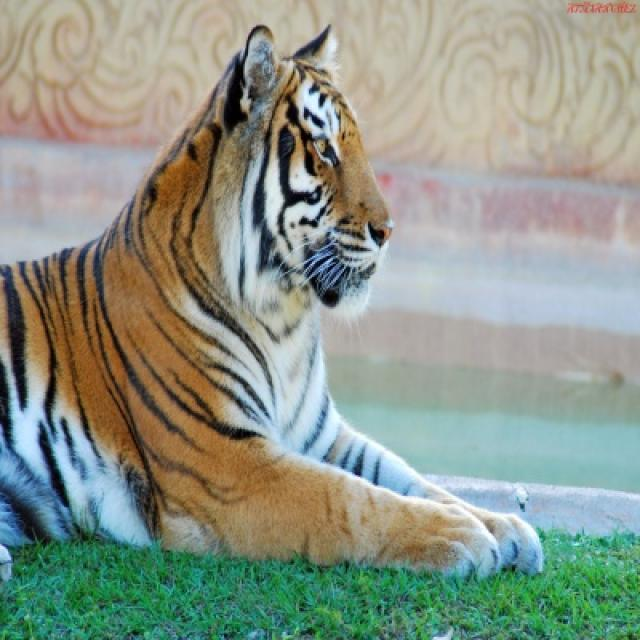Tiger: (0, 23, 540, 579)
